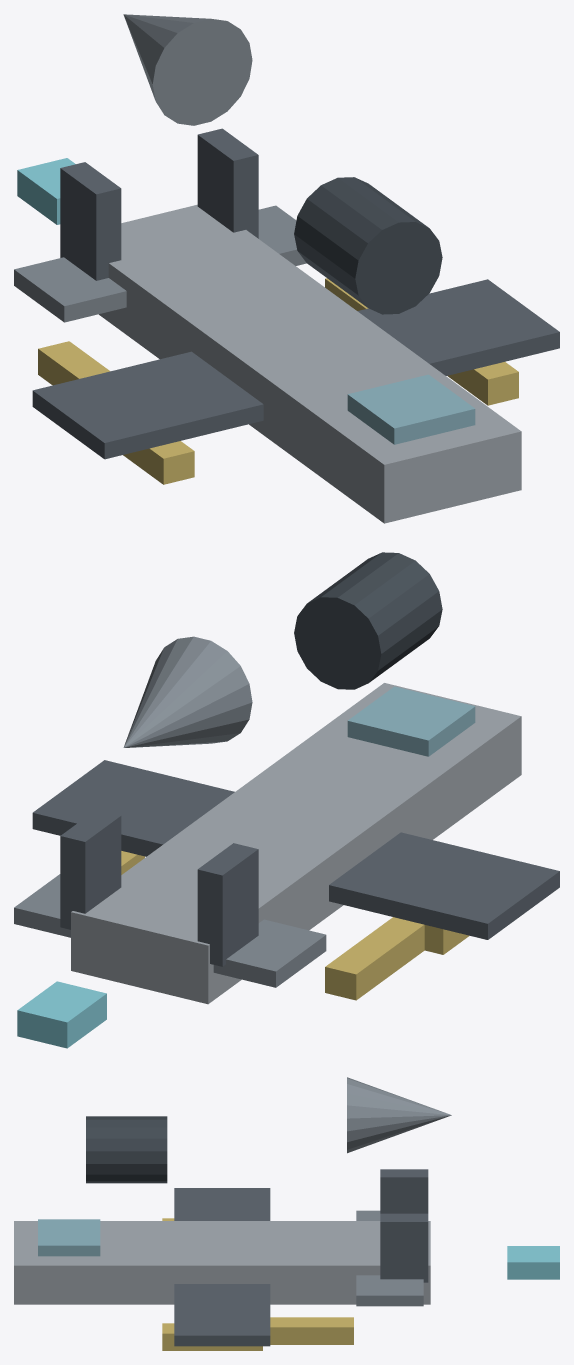
File: human_anti_air_fighter.glb
3 views of the same model, one above another, from view 1: azimuth 30°, elevation 25°; view 2: azimuth 150°, elevation 25°; view 3: azimuth 270°, elevation 25° (orthographic). The views are drawn at different scales.
Parts seen in each view (by area): view 1: fuselage, main_wing, engine_nozzle, nose, rear_wing, tail_fin_-1, canopy, tail_fin_1, engine_glow, wing_missile_-1_rear, wing_missile_-1_front, wing_missile_1_front; view 2: fuselage, main_wing, engine_nozzle, nose, rear_wing, tail_fin_-1, canopy, tail_fin_1, wing_missile_-1_rear, engine_glow, wing_missile_-1_front; view 3: fuselage, main_wing, engine_nozzle, nose, tail_fin_1, canopy, wing_missile_1_rear, rear_wing, tail_fin_-1, engine_glow, wing_missile_1_front.
Part boxes in pixels (x1,y1,x2,y2): fuselage: [99, 204, 521, 523]; main_wing: [32, 279, 559, 459]; engine_nozzle: [294, 177, 442, 314]; nose: [123, 14, 252, 125]; rear_wing: [14, 205, 306, 322]; tail_fin_-1: [60, 162, 121, 280]; canopy: [347, 374, 475, 444]; tail_fin_1: [197, 128, 258, 238]; engine_glow: [17, 158, 75, 224]; wing_missile_-1_rear: [38, 341, 109, 385]; wing_missile_-1_front: [123, 441, 194, 484]; wing_missile_1_front: [447, 362, 518, 405]; fuselage: [71, 683, 521, 1004]; main_wing: [32, 760, 559, 939]; engine_nozzle: [294, 552, 442, 689]; nose: [123, 636, 252, 747]; rear_wing: [14, 874, 326, 987]; tail_fin_-1: [197, 843, 258, 966]; canopy: [347, 686, 475, 756]; tail_fin_1: [60, 809, 121, 929]; wing_missile_-1_rear: [325, 917, 424, 1000]; engine_glow: [17, 981, 106, 1048]; wing_missile_-1_front: [424, 925, 469, 954]; fuselage: [14, 1221, 430, 1304]; main_wing: [174, 1188, 270, 1346]; engine_nozzle: [86, 1116, 167, 1183]; nose: [347, 1077, 451, 1153]; tail_fin_1: [380, 1213, 428, 1282]; canopy: [38, 1219, 100, 1256]; wing_missile_1_rear: [270, 1317, 353, 1344]; rear_wing: [356, 1210, 423, 1306]; tail_fin_-1: [380, 1169, 428, 1213]; engine_glow: [507, 1246, 559, 1279]; wing_missile_1_front: [162, 1323, 262, 1350].
Size of the model in its own units: 1.46 by 0.9776 by 2.28.
